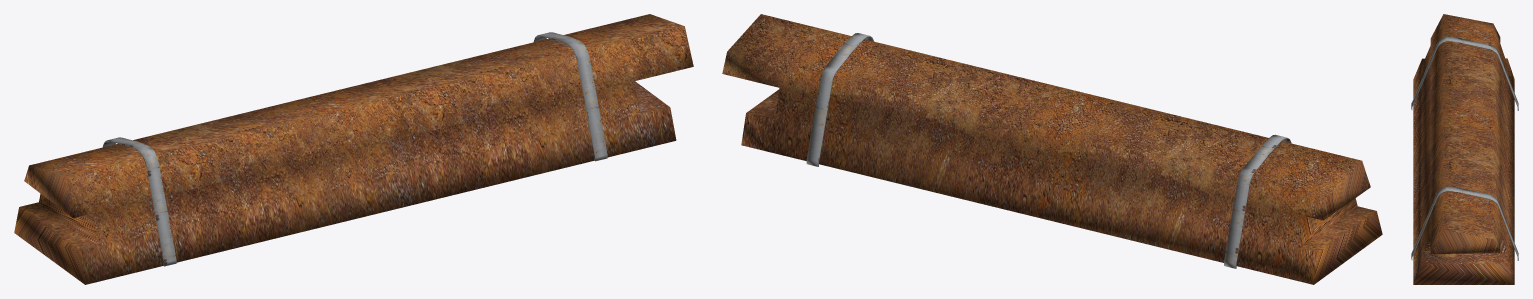
Rendered from pipes_lod1.obj.
The picture shows the model from 3 angles, left to right: view 1: azimuth 30°, elevation 25°; view 2: azimuth 150°, elevation 25°; view 3: azimuth 270°, elevation 25°; orthographic projection. The views are drawn at different scales.
Parts seen in each view (by area): view 1: pipes_lod1.obj; view 2: pipes_lod1.obj; view 3: pipes_lod1.obj.
Boxes of the visible parts, x1,y1,x2,y2 form: pipes_lod1.obj: (14,14,693,284); pipes_lod1.obj: (722,14,1382,284); pipes_lod1.obj: (1411,14,1518,284).
Size of the model in its own units: 6.3 by 0.9534 by 1.32.
1 material, 1 textured.
